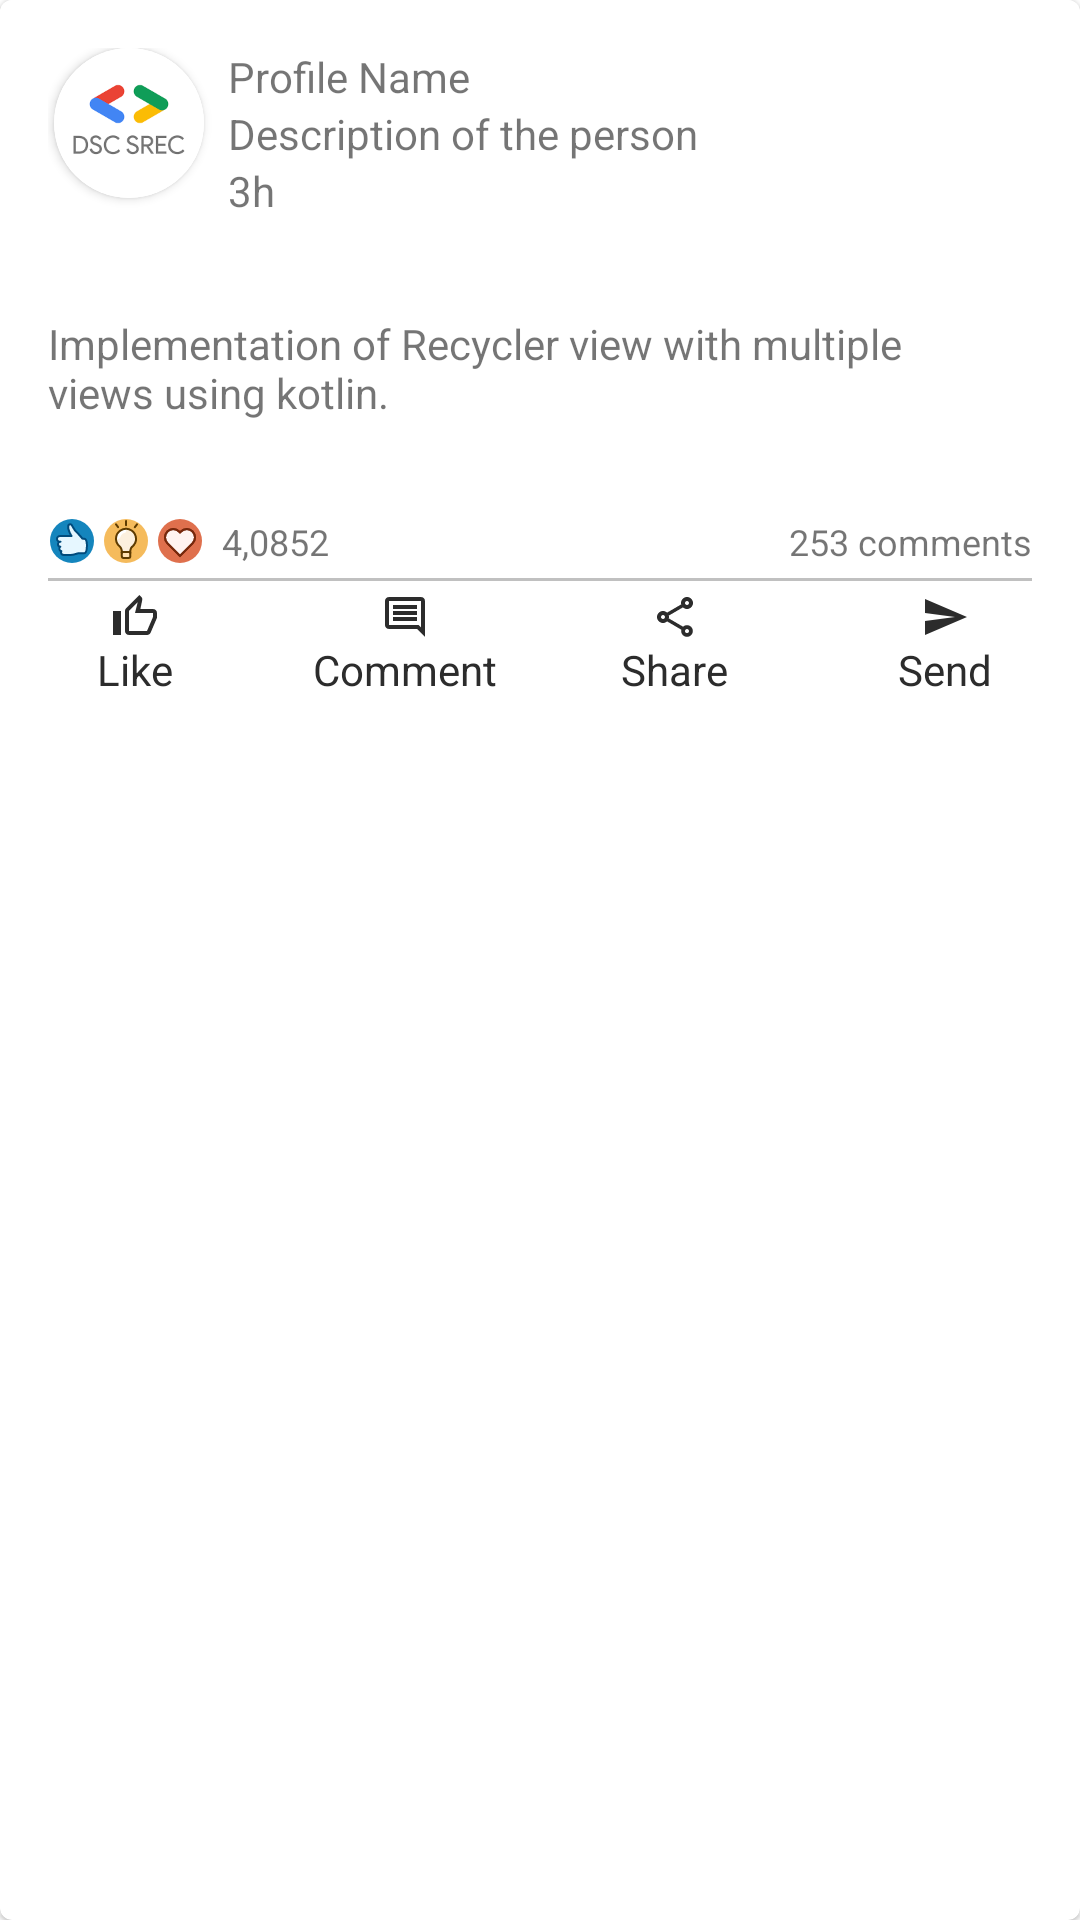

Icon click points for this 1080 x 1920 phone screenshot, format (x=x, y=y):
insightful: (x=126, y=541)
love: (x=180, y=541)
